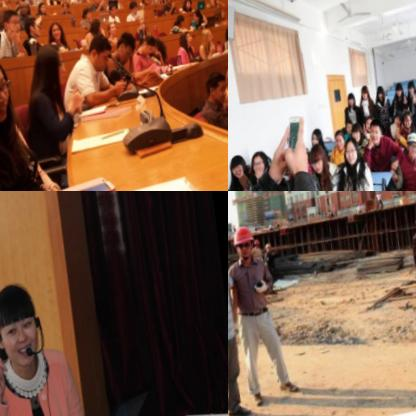head: (0, 275, 50, 374), (228, 6, 245, 191), (31, 43, 72, 90), (0, 47, 20, 124), (86, 34, 118, 75), (114, 34, 140, 68), (309, 140, 334, 175), (3, 6, 27, 41), (342, 133, 366, 168), (249, 146, 274, 178), (206, 71, 228, 104), (228, 152, 251, 181), (24, 12, 45, 40), (368, 120, 388, 149), (350, 120, 367, 146), (309, 125, 327, 148), (50, 19, 68, 41), (334, 126, 350, 150), (141, 36, 158, 58), (404, 129, 416, 159), (89, 15, 106, 34), (180, 32, 197, 50), (403, 107, 416, 130), (343, 116, 357, 137), (0, 6, 12, 30), (360, 81, 375, 100), (393, 106, 407, 126), (148, 38, 162, 57), (375, 85, 389, 104), (366, 116, 379, 134), (346, 90, 359, 108), (393, 80, 406, 98), (202, 29, 216, 45), (18, 0, 32, 16), (127, 0, 141, 16), (82, 5, 95, 21), (176, 12, 189, 28), (138, 17, 150, 34), (406, 75, 416, 95), (215, 6, 228, 21), (38, 0, 50, 15), (109, 21, 120, 36), (194, 9, 204, 24), (109, 3, 119, 17), (63, 0, 73, 12), (184, 0, 194, 9), (13, 0, 27, 5), (0, 0, 8, 8), (92, 0, 103, 5), (141, 0, 152, 4), (110, 0, 120, 4), (166, 0, 175, 4), (211, 0, 218, 4)
helmet: (228, 221, 263, 267)
